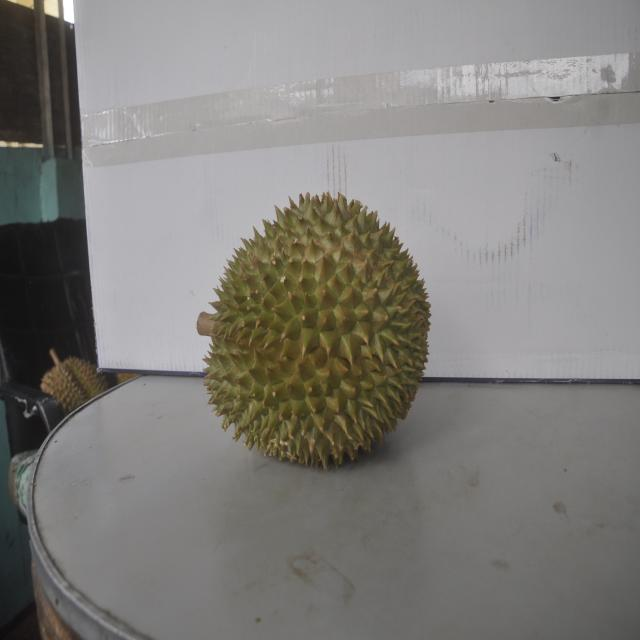mature: (204, 188, 432, 472), (41, 353, 113, 416)
